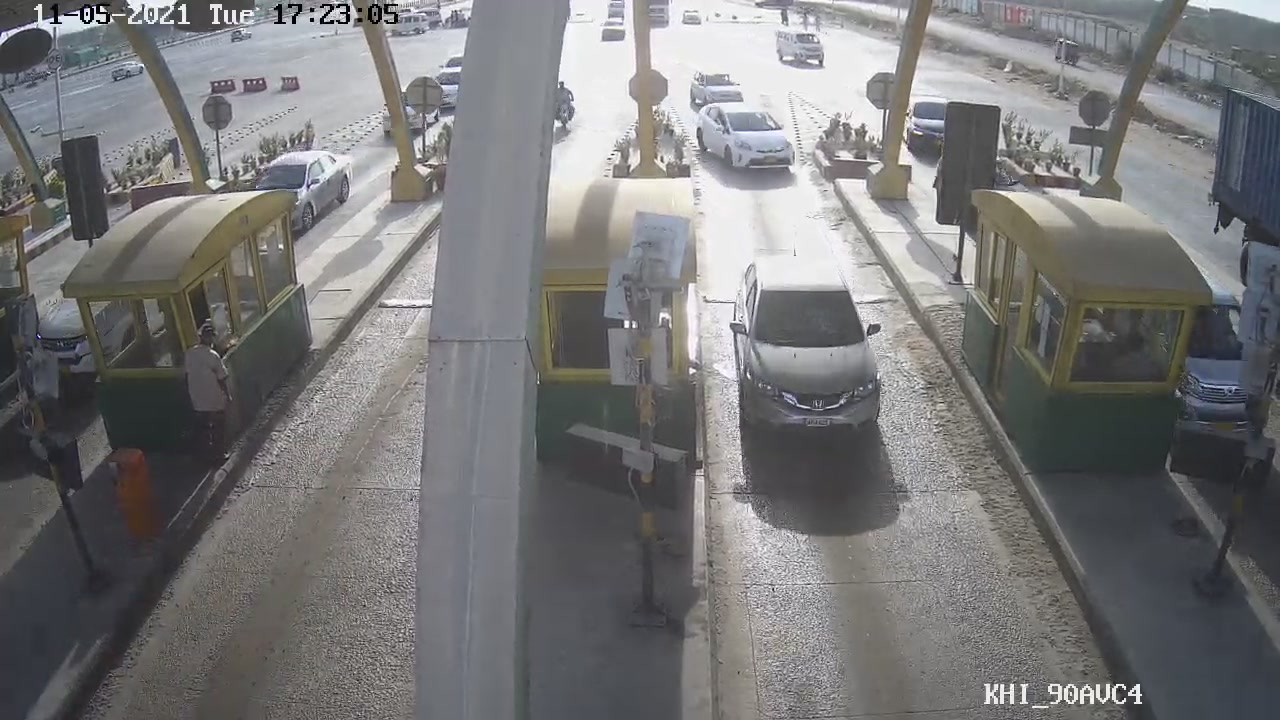F1: (721, 248, 888, 453)
